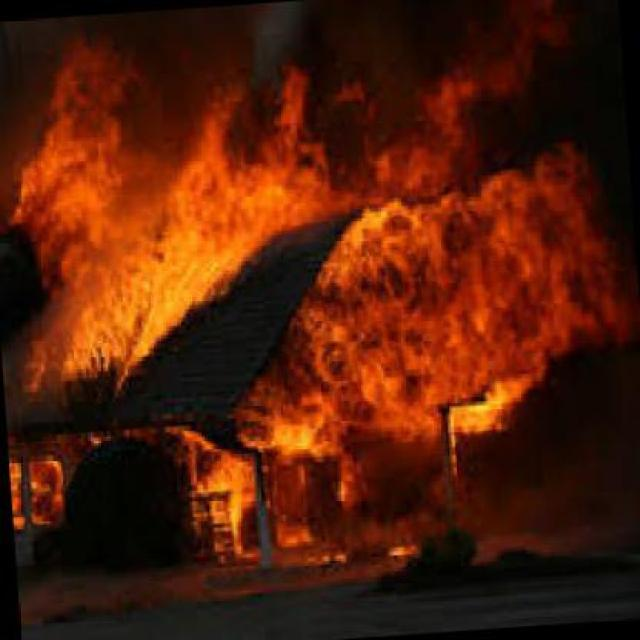Fire: (16, 56, 614, 538)
